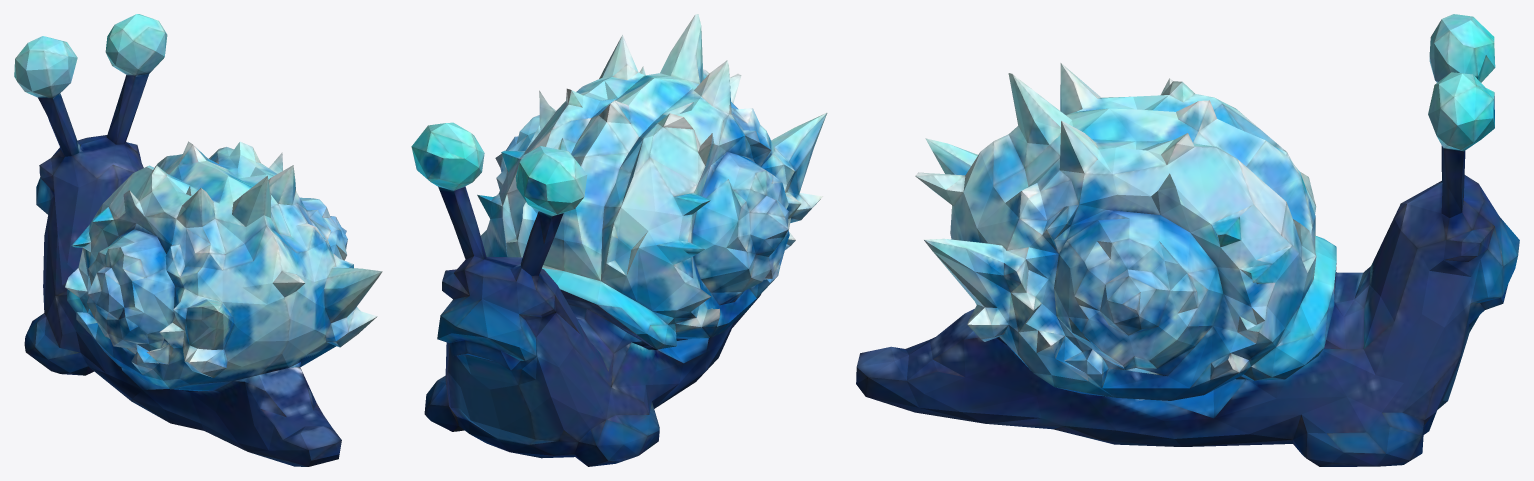
The model's file is foe_rimeSnail.glb.
The picture shows the model from 3 angles, left to right: view 1: azimuth 30°, elevation 25°; view 2: azimuth 150°, elevation 25°; view 3: azimuth 270°, elevation 25°; orthographic projection. The views are drawn at different scales.
Visible parts, largest first — view 1: tripo_node_31a24004-2ad5-475d-909f-8291f7c9f0c6.001; view 2: tripo_node_31a24004-2ad5-475d-909f-8291f7c9f0c6.001; view 3: tripo_node_31a24004-2ad5-475d-909f-8291f7c9f0c6.001.
Boxes of the visible parts, x1=… form: tripo_node_31a24004-2ad5-475d-909f-8291f7c9f0c6.001: x1=14, y1=14, x2=382, y2=466; tripo_node_31a24004-2ad5-475d-909f-8291f7c9f0c6.001: x1=411, y1=14, x2=827, y2=466; tripo_node_31a24004-2ad5-475d-909f-8291f7c9f0c6.001: x1=856, y1=14, x2=1519, y2=466.
Bounding box in the file's own units: 0.5785 × 0.6311 × 1.
1 material, 1 textured.
